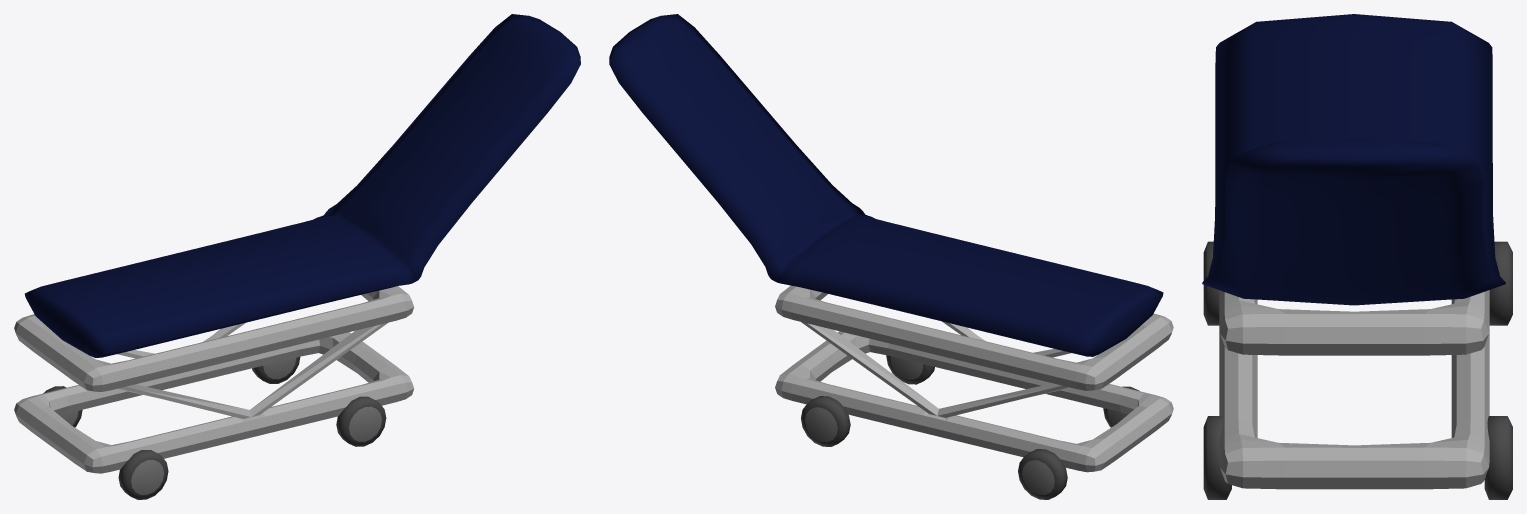
File: medical stretcher.fbx
3 renders of one model, left to right at view 1: azimuth 30°, elevation 25°; view 2: azimuth 150°, elevation 25°; view 3: azimuth 270°, elevation 25°, orthographic. The views are drawn at different scales.
Visible parts, largest first — view 1: Medical Stretcher.001; view 2: Medical Stretcher.001; view 3: Medical Stretcher.001.
Boxes of the visible parts, x1=… form: Medical Stretcher.001: x1=14, y1=14, x2=580, y2=499; Medical Stretcher.001: x1=609, y1=14, x2=1173, y2=499; Medical Stretcher.001: x1=1202, y1=14, x2=1512, y2=499.
Bounding box in the file's own units: 6.62 × 4.04 × 2.13.
